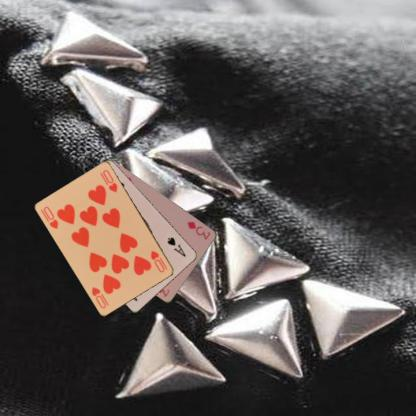10h: (148, 248, 169, 274), (41, 204, 60, 230)
3d: (185, 218, 212, 241)
As: (164, 235, 188, 258)
